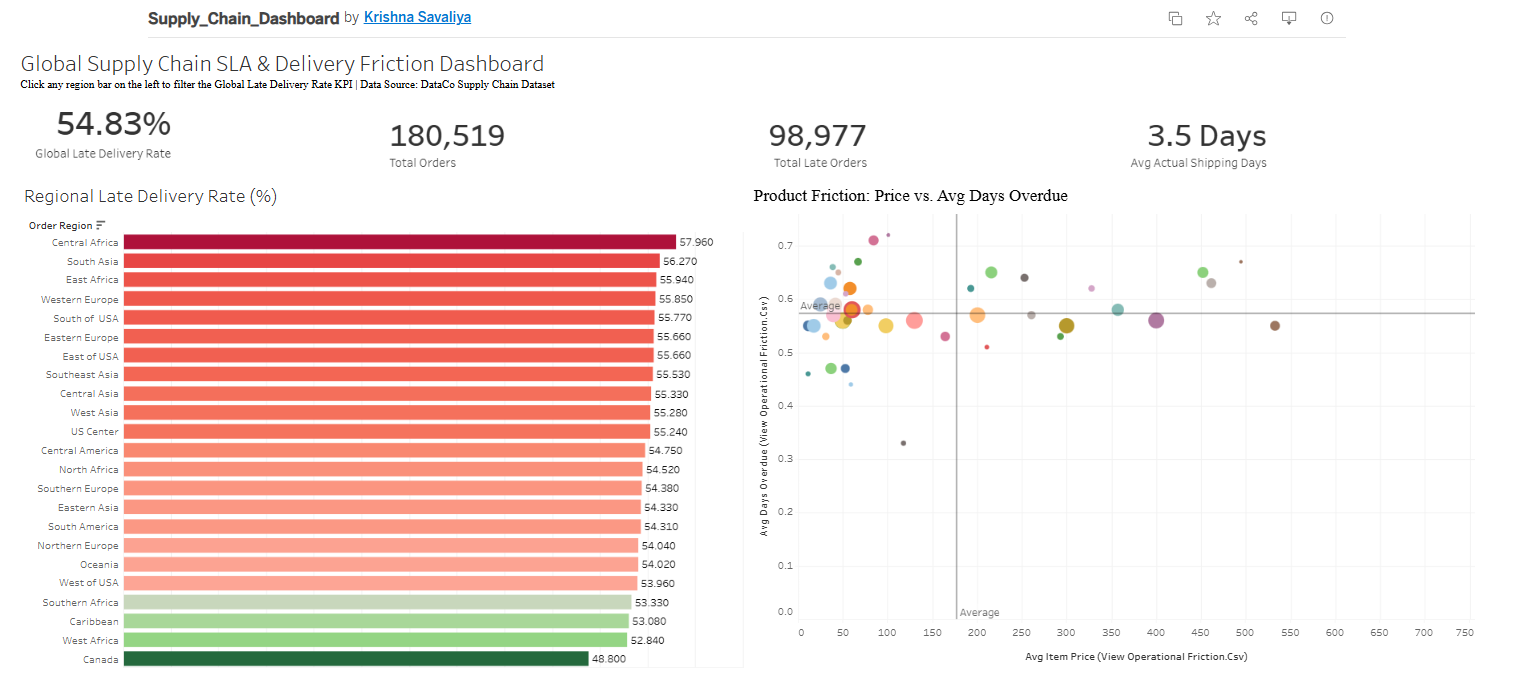

The dashboard page shown, as its layout file describes it:
{"tool":"tableau","page":{"name":"Supply Chain SLA Dashboard","canvas":[1000,1000],"units":"permille","ordinal":0},"visuals":[{"type":"title","box":[4.8,9.4,990.3,84.6]},{"type":"worksheet","title":"Global Delivery Rate","mark":"Automatic","box":[4.8,94,247.6,124]},{"type":"worksheet","title":"Total Orders","mark":"Automatic","box":[252.4,94,247.6,124]},{"type":"worksheet","title":"Total Late Orders","mark":"Automatic","box":[500,94,247.6,124]},{"type":"worksheet","title":"Avg Actual Shipping Days","mark":"Automatic","box":[747.6,94,247.6,124]},{"type":"worksheet","title":"Regional Late Delivery Rate","mark":"Automatic","rows":["order_region"],"cols":["late_delivery_rate_pct"],"box":[4.8,218,495.2,772.6]},{"type":"worksheet","title":"Product Price vs Avg Overdue","mark":"Circle","rows":["avg_days_overdue (view_operational_friction.csv)"],"cols":["avg_item_price (view_operational_friction.csv)"],"box":[500,218,495.2,772.6]}]}

Visuals, with their boxes on the dashboard's canvas, which has no fixed pixel size, in thousandths of its width and height (x1, y1, x2, y2). These are canvas units, not pixel positions in the 1515x678 screenshot, which may show the page scaled, cropped or inside an application window:
title: left=5, top=9, right=995, bottom=94
"Global Delivery Rate" worksheet: left=5, top=94, right=252, bottom=218
"Total Orders" worksheet: left=252, top=94, right=500, bottom=218
"Total Late Orders" worksheet: left=500, top=94, right=748, bottom=218
"Avg Actual Shipping Days" worksheet: left=748, top=94, right=995, bottom=218
"Regional Late Delivery Rate" worksheet: left=5, top=218, right=500, bottom=991
"Product Price vs Avg Overdue" worksheet (Circle marks): left=500, top=218, right=995, bottom=991
